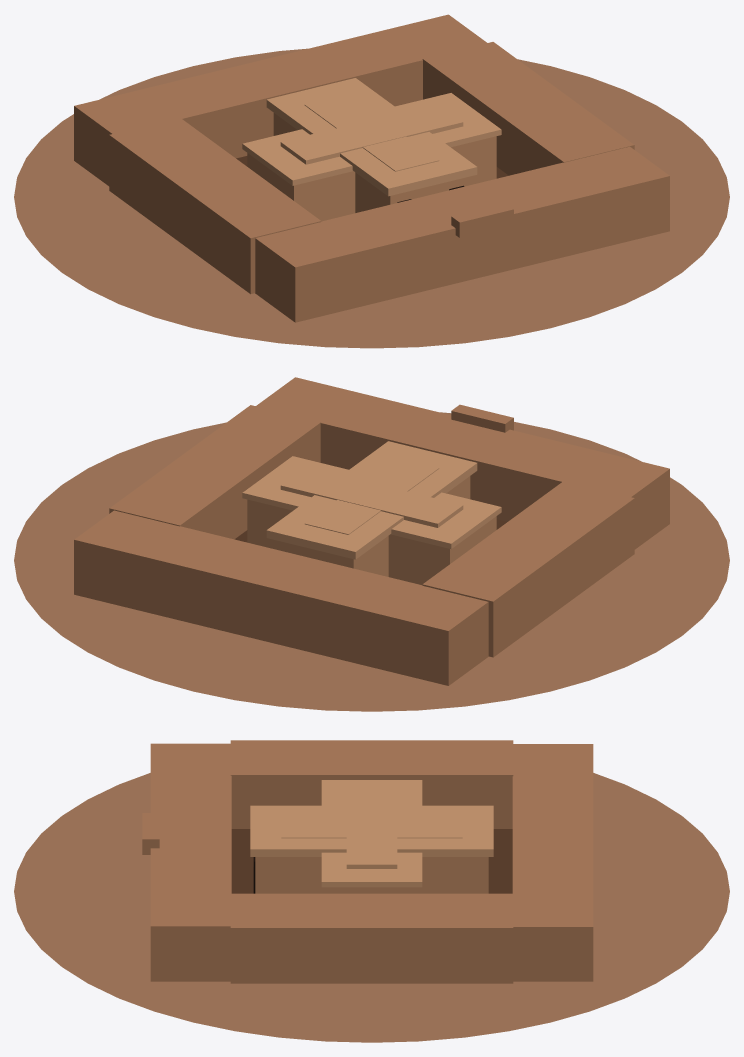
File: improvement_rock_hewn_church.fbx
The picture shows the model from 3 angles, top to bottom: view 1: azimuth 30°, elevation 25°; view 2: azimuth 150°, elevation 25°; view 3: azimuth 270°, elevation 25°; orthographic projection.
Visible parts, largest first — view 1: improvement_rock_hewn_church_rhrock_01, improvement_rock_hewn_church_sg#a87858_00, improvement_rock_hewn_church_rhroof_04, improvement_rock_hewn_church_rhwall_03; view 2: improvement_rock_hewn_church_rhrock_01, improvement_rock_hewn_church_sg#a87858_00, improvement_rock_hewn_church_rhroof_04, improvement_rock_hewn_church_rhwall_03; view 3: improvement_rock_hewn_church_rhrock_01, improvement_rock_hewn_church_sg#a87858_00, improvement_rock_hewn_church_rhroof_04, improvement_rock_hewn_church_rhwall_03, improvement_rock_hewn_church_rhtrench_02.
Boxes of the visible parts, bbox=[...] form: improvement_rock_hewn_church_rhrock_01: bbox=[74, 14, 669, 322]; improvement_rock_hewn_church_sg#a87858_00: bbox=[14, 48, 729, 348]; improvement_rock_hewn_church_rhroof_04: bbox=[242, 78, 501, 196]; improvement_rock_hewn_church_rhwall_03: bbox=[247, 113, 496, 221]; improvement_rock_hewn_church_rhrock_01: bbox=[74, 377, 669, 685]; improvement_rock_hewn_church_sg#a87858_00: bbox=[14, 412, 729, 711]; improvement_rock_hewn_church_rhroof_04: bbox=[242, 441, 501, 559]; improvement_rock_hewn_church_rhwall_03: bbox=[247, 476, 496, 585]; improvement_rock_hewn_church_rhrock_01: bbox=[142, 740, 593, 983]; improvement_rock_hewn_church_sg#a87858_00: bbox=[14, 773, 729, 1042]; improvement_rock_hewn_church_rhroof_04: bbox=[250, 780, 493, 887]; improvement_rock_hewn_church_rhwall_03: bbox=[255, 857, 488, 893]; improvement_rock_hewn_church_rhtrench_02: bbox=[231, 829, 512, 893].
Size of the model in its own units: 142 by 14.96 by 142.
